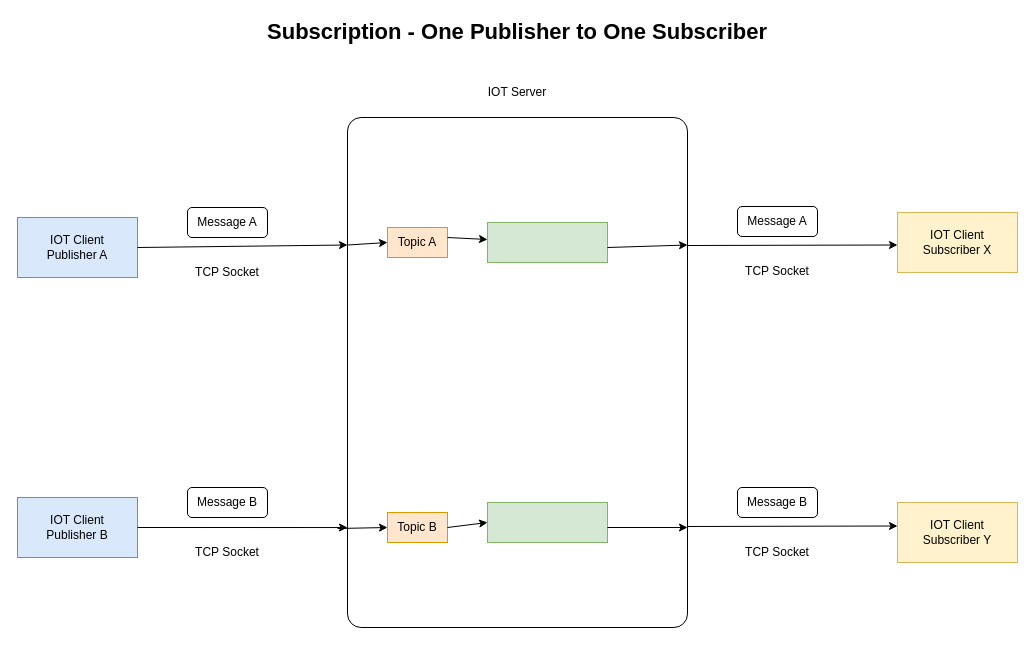
Some shapes in this 1035 by 645 pixel diagram are drawn without their labels. Here are the shapes that lost their labels. From the top down, the centre of each, then its label:
At (x=547, y=242): "Subscription X Topic A".
At (x=547, y=522): "Subscription Y Topic B".
